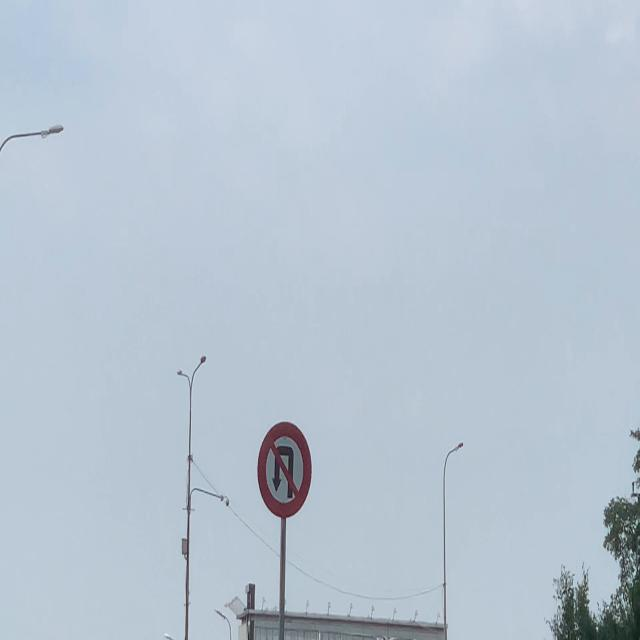Cam quay dau xe: (256, 420, 312, 519)
